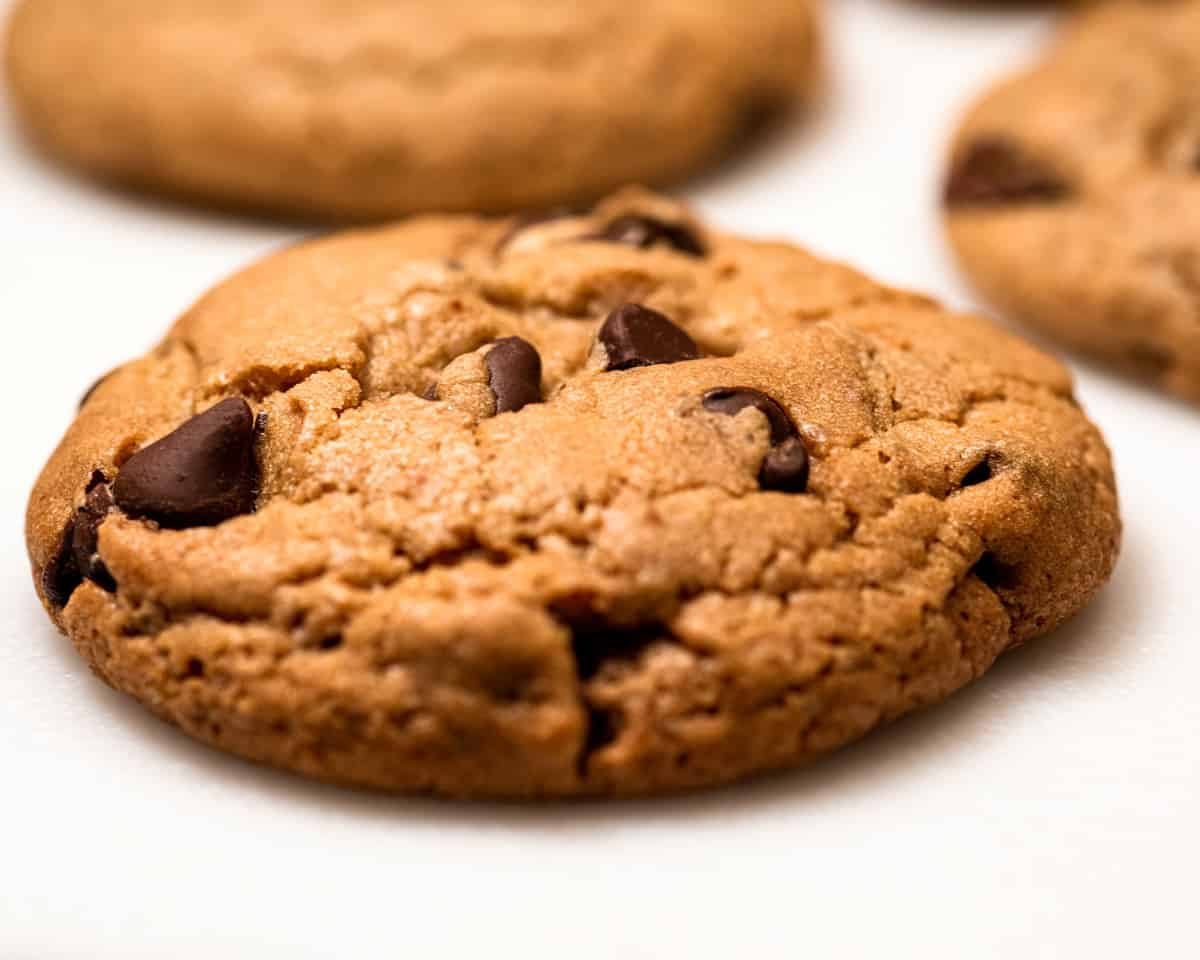cookie: (4, 167, 1145, 836)
